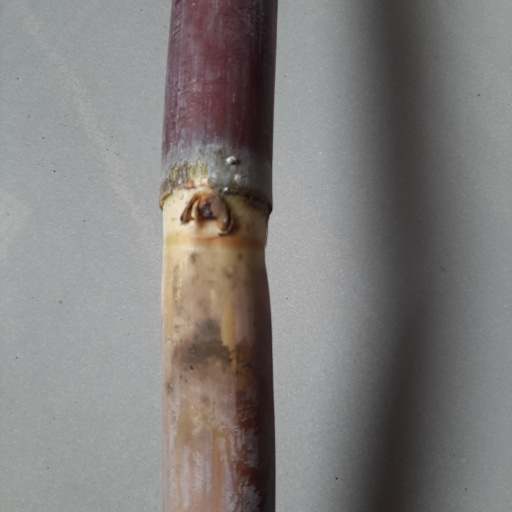Damage_Bud: (179, 190, 232, 237)
